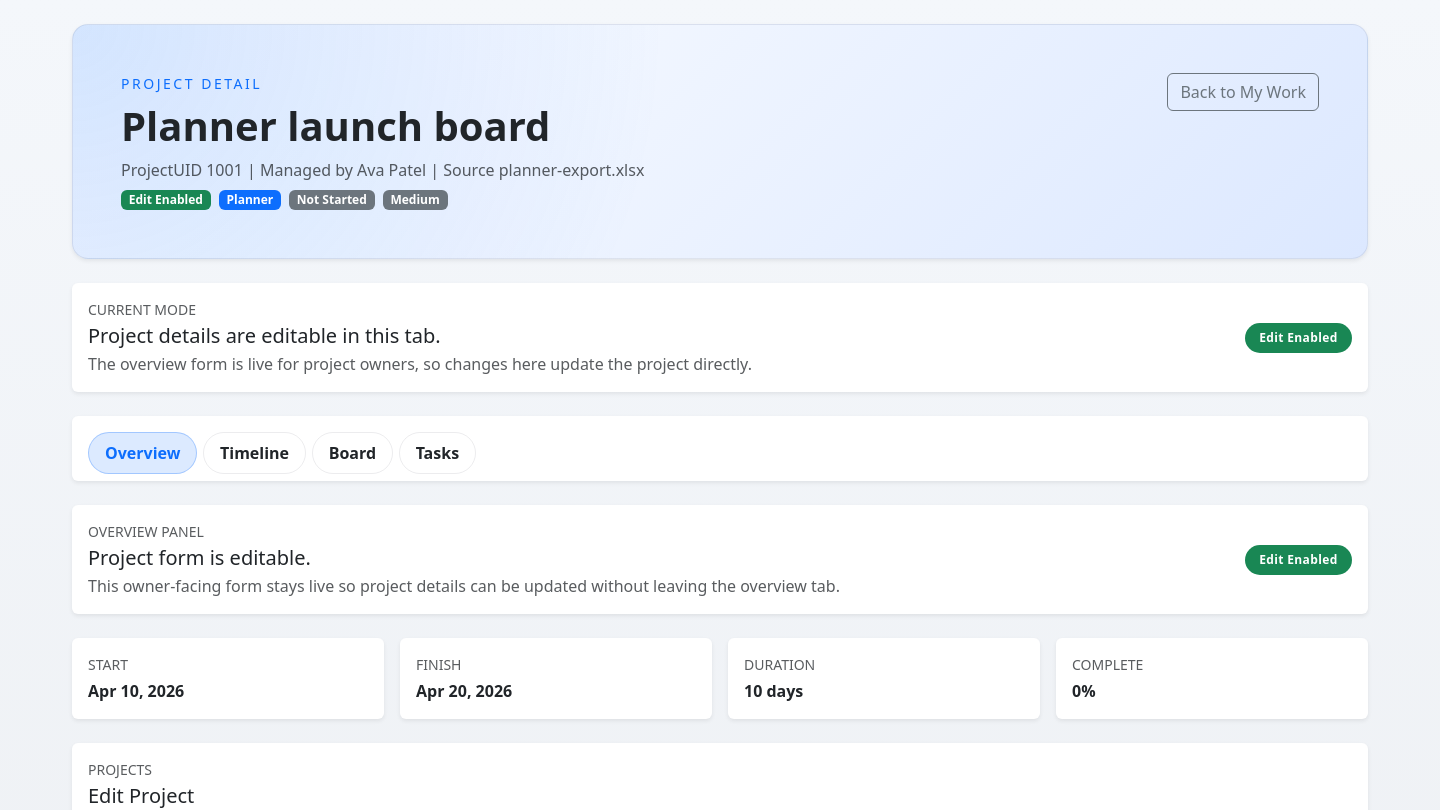
Test case: ProjectDetailPage › shows the board tab for Planner projects and routes drag/drop saves through the detail page
Expected: the heading "Planner launch board" is shown, 121,98 -> 550,153
Click the button "Board": coordinates (352, 453) 312,432 -> 393,474
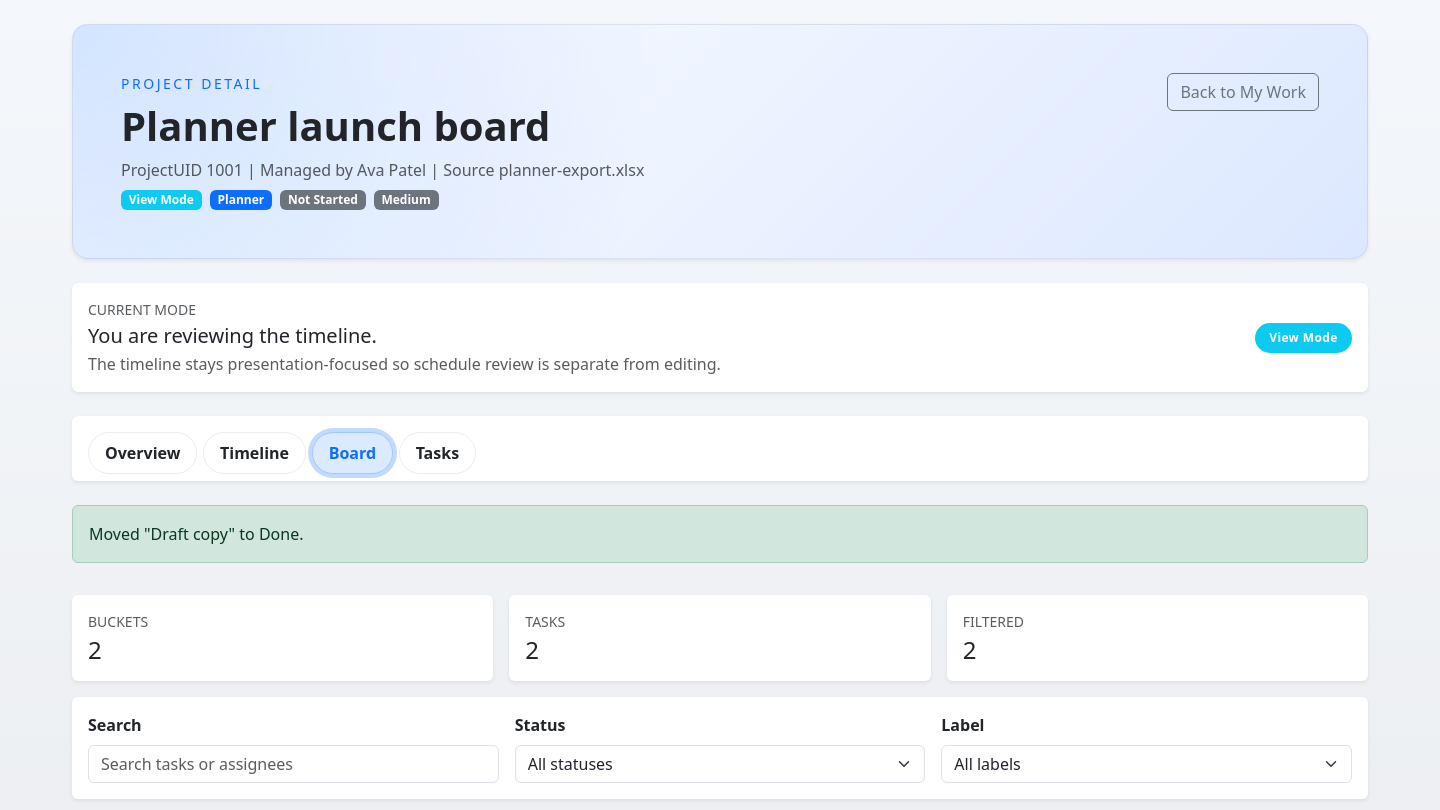
Now the text "Moved \"Draft copy\" to Done." is shown, box 72,505 -> 1368,563
